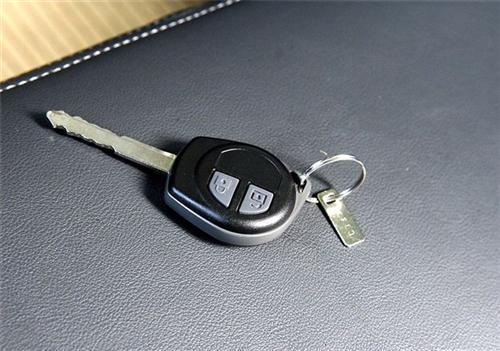key: (34, 98, 316, 260)
